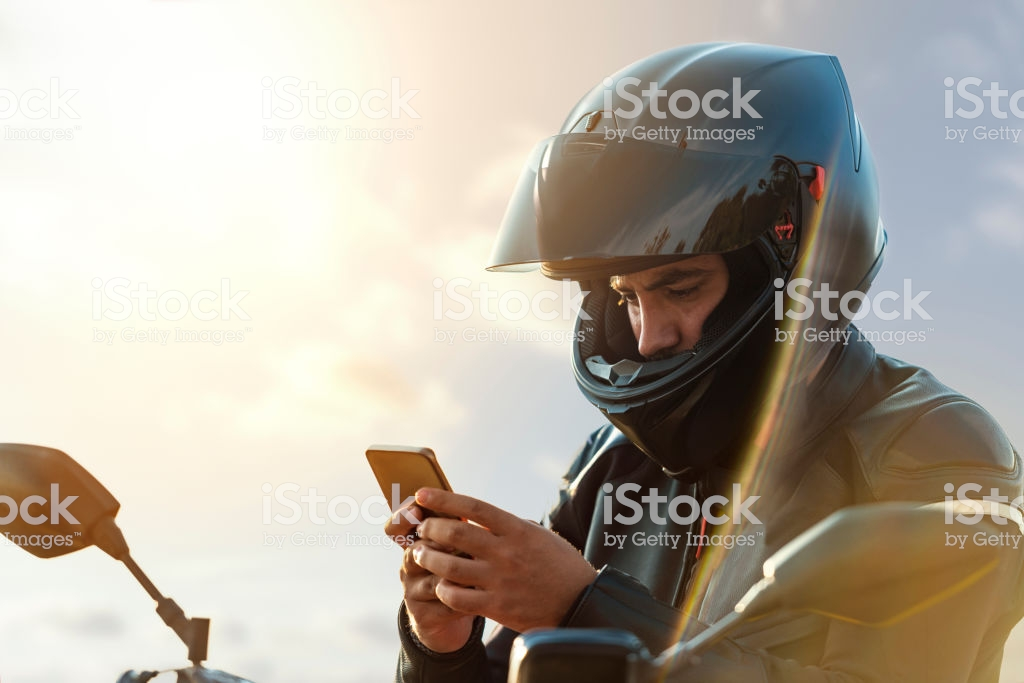helmet: (510, 48, 889, 434)
